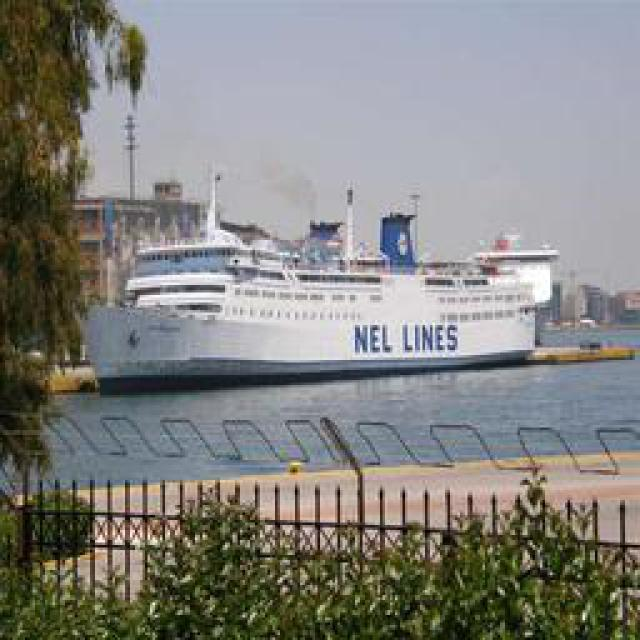Ship: (87, 196, 570, 386)
